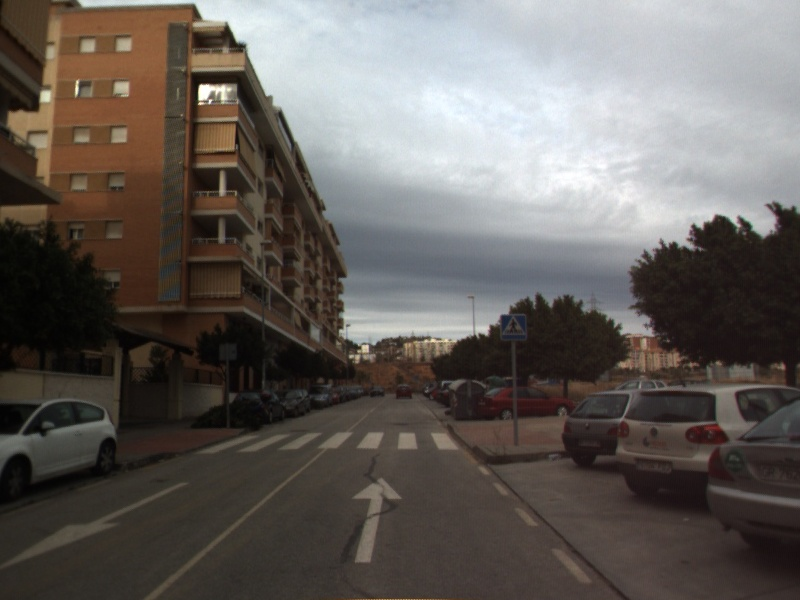STRAIGHT: (349, 475, 406, 565)
